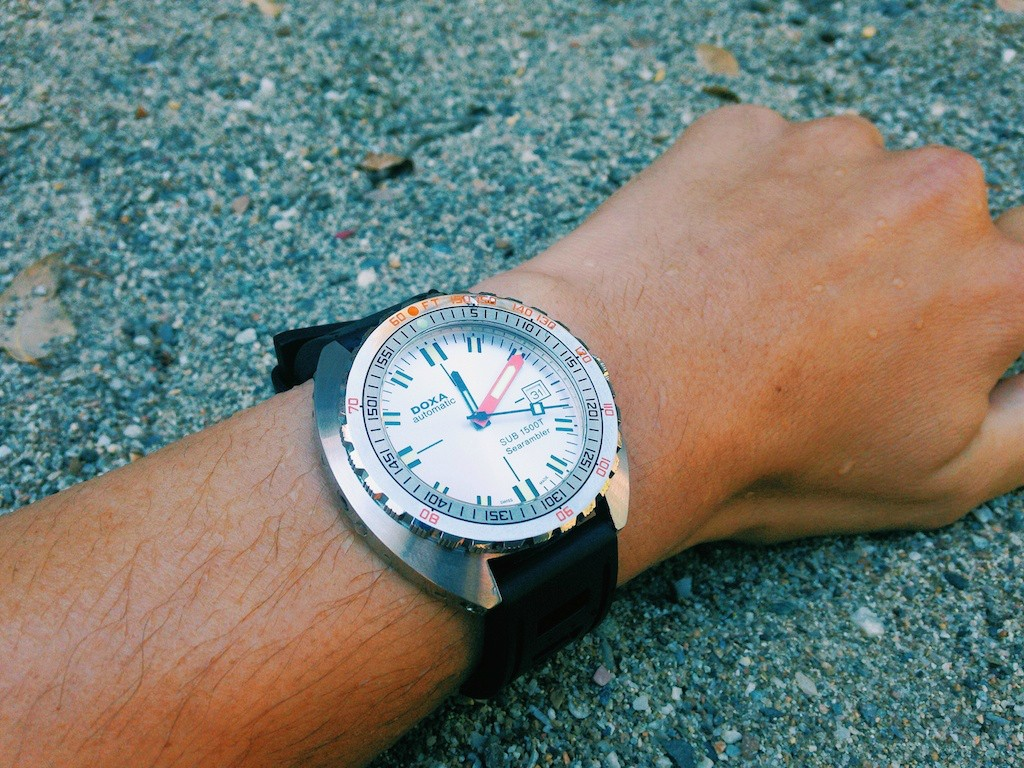clock: (379, 323, 589, 508)
